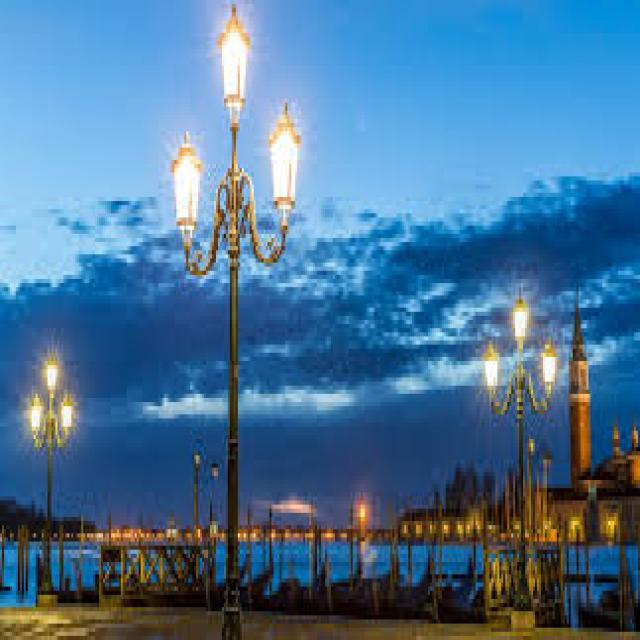Street Light: (169, 4, 303, 640), (483, 292, 557, 612), (28, 352, 73, 586)
